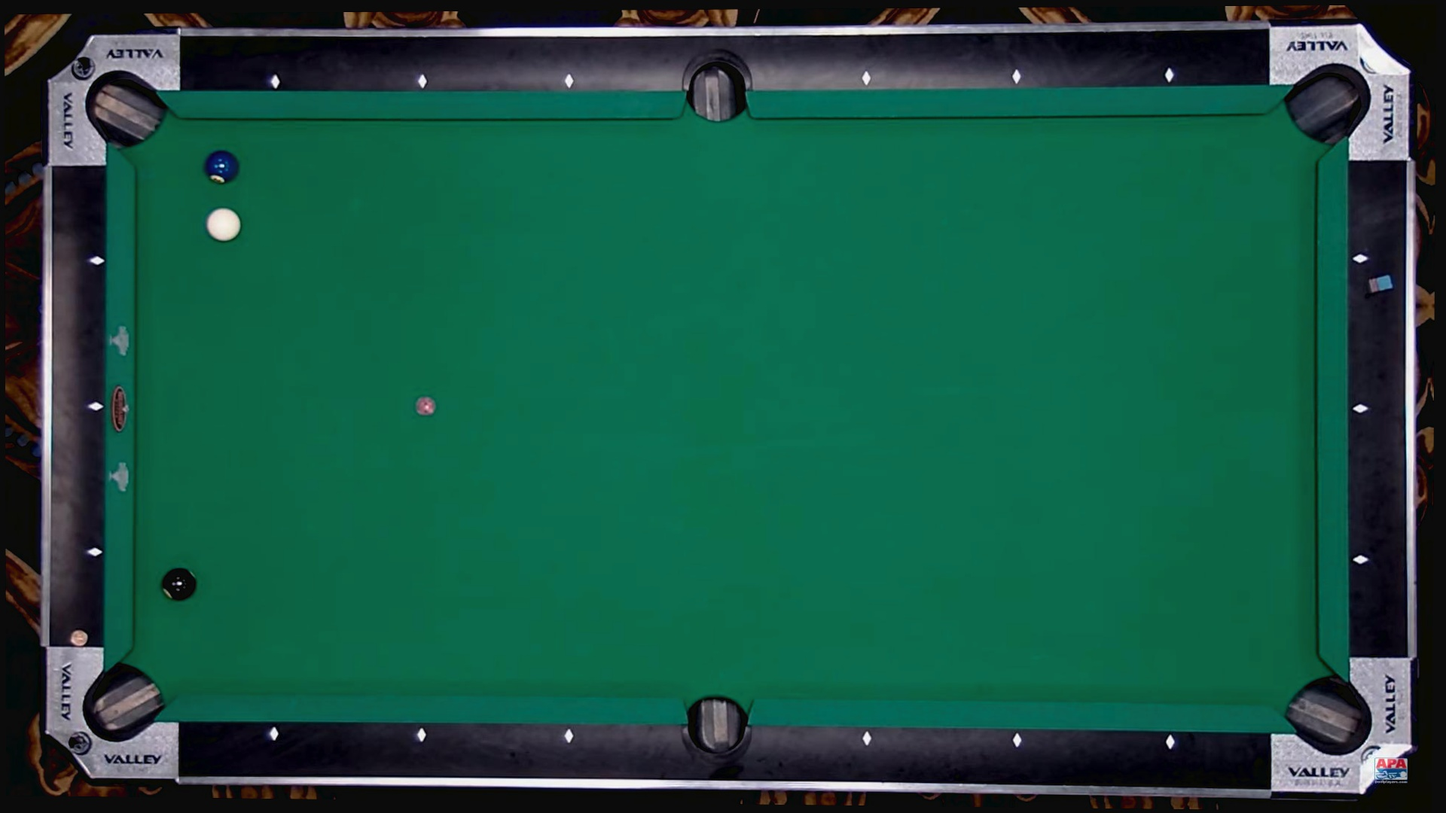Black: (160, 566, 197, 601)
Cue: (206, 207, 241, 243)
Solid: (92, 256, 103, 267), (271, 76, 282, 87), (417, 76, 428, 87), (564, 76, 575, 87), (1355, 254, 1366, 265), (416, 730, 427, 741), (89, 547, 99, 558), (91, 400, 101, 411), (861, 73, 872, 83), (1355, 403, 1365, 414), (1164, 738, 1175, 748), (1011, 734, 1021, 745), (861, 732, 871, 743), (563, 732, 574, 742), (269, 729, 279, 740), (1011, 72, 1021, 82), (1164, 70, 1174, 80), (1356, 555, 1366, 565)
Striped: (204, 150, 241, 184)
